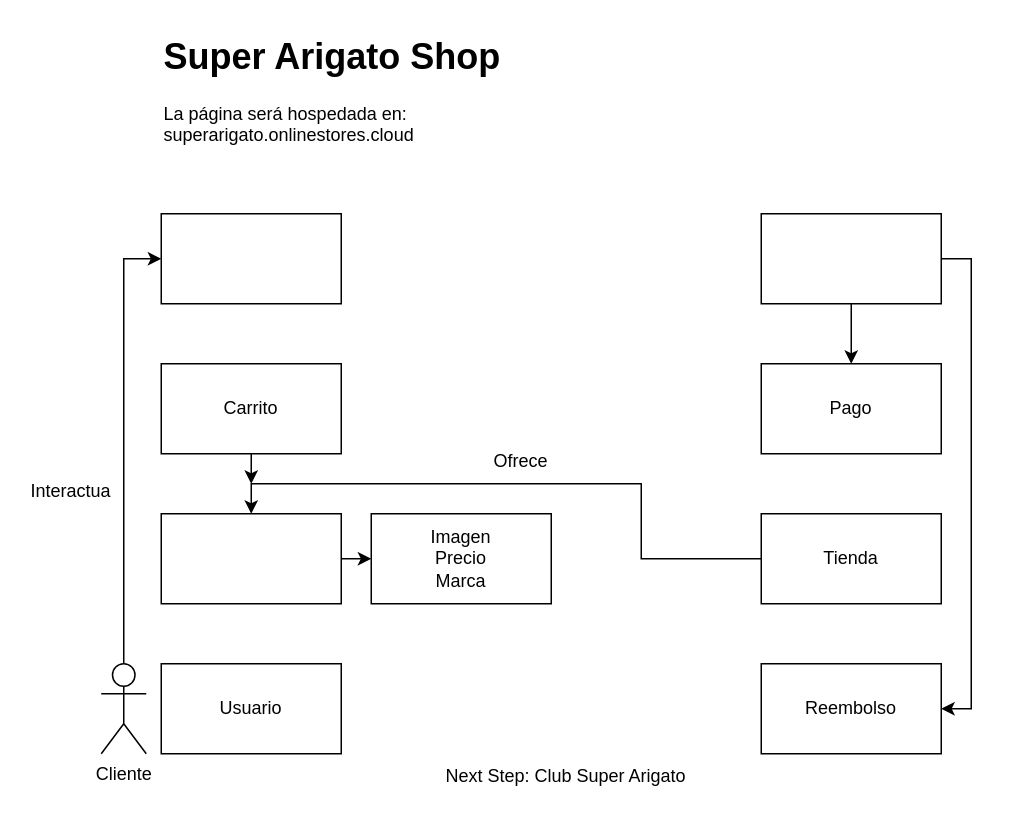
Some shapes in this 1010 by 824 pixel diagram are drawn without their labels. The shapes that lost their labels are listed below. From the top down, each one's box as (x1, y1, x2, y2) in pixels, then its label:
(160, 212, 341, 304): Chatbot
(760, 212, 941, 304): Venta
(160, 512, 341, 604): Producto
